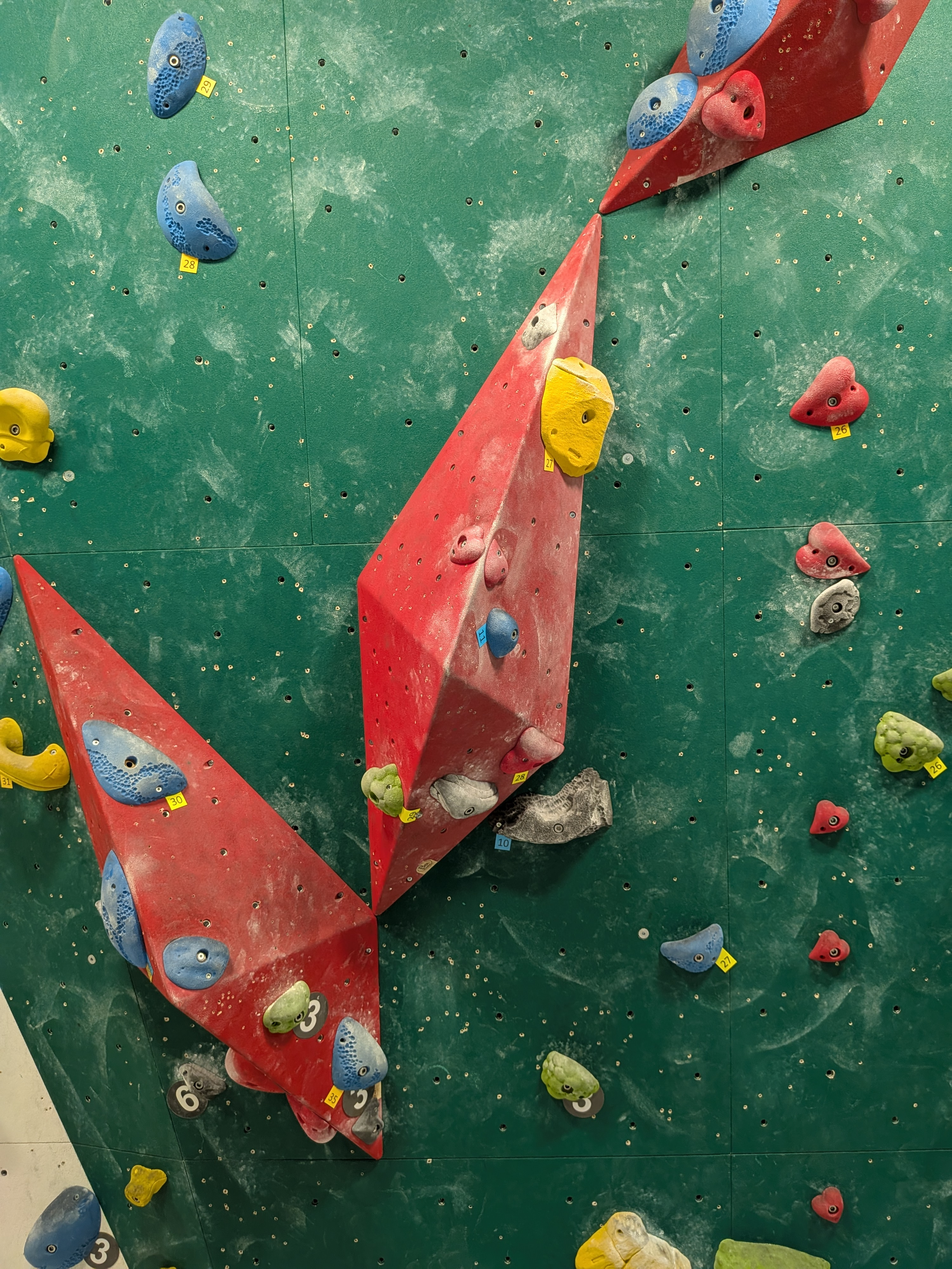hold: (82, 720, 187, 805), (542, 358, 615, 477), (497, 770, 612, 844), (156, 159, 235, 260), (687, 0, 778, 75), (578, 1211, 691, 1269), (24, 1185, 101, 1269), (148, 11, 206, 119), (99, 852, 149, 970), (788, 356, 869, 427), (626, 73, 697, 150), (0, 718, 70, 791), (702, 70, 766, 140), (795, 523, 870, 579), (0, 387, 54, 463), (876, 712, 944, 772), (333, 1019, 386, 1092), (164, 937, 229, 989), (718, 1240, 832, 1269), (429, 776, 499, 819), (499, 727, 564, 773), (663, 925, 725, 973), (541, 1051, 599, 1100), (810, 581, 860, 635), (225, 1048, 282, 1093), (263, 980, 310, 1033), (287, 1095, 335, 1143), (361, 764, 403, 816), (521, 303, 558, 350), (178, 1062, 226, 1098), (124, 1166, 165, 1206), (486, 608, 519, 657), (354, 1096, 382, 1144), (811, 800, 849, 834), (811, 931, 851, 963), (451, 530, 486, 563), (484, 539, 508, 587), (814, 1187, 845, 1222), (856, 0, 897, 24), (0, 567, 13, 632), (932, 668, 952, 701)
volume: (14, 555, 384, 1164), (358, 213, 602, 919), (597, 0, 931, 215)
